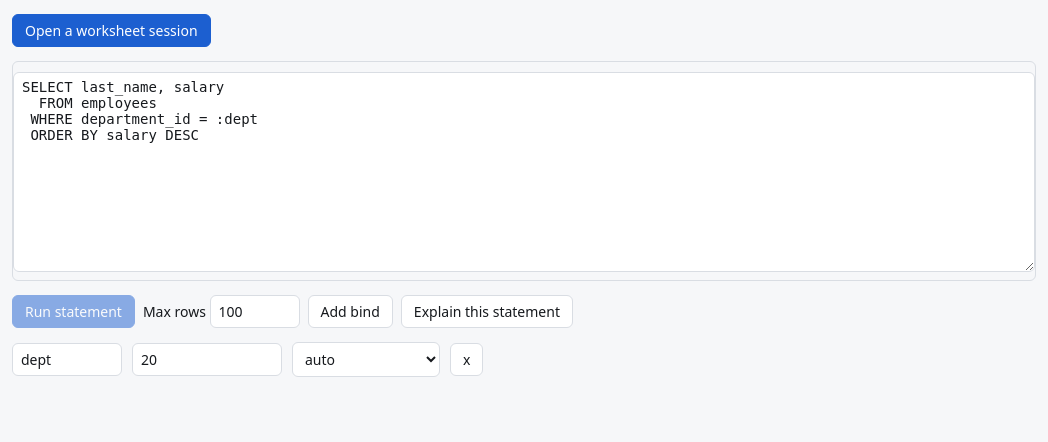
Scenario: acting on a session › refuses to execute on a session that belongs to another target
Click the button "Open a worksheet session" at (111, 30), box [12, 14, 211, 47]
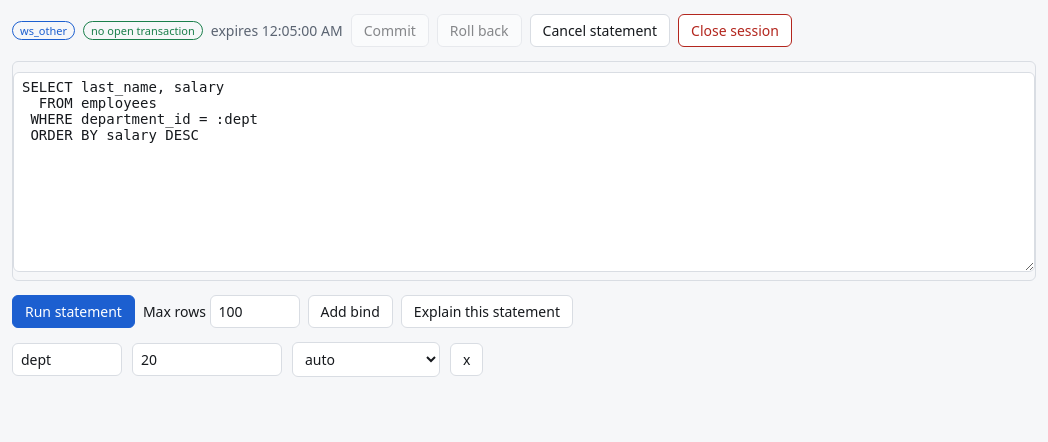
Result: the text "ws_other" is shown at [12, 21, 75, 40]
Click the button "Run statement" at (73, 312), box [12, 295, 135, 328]
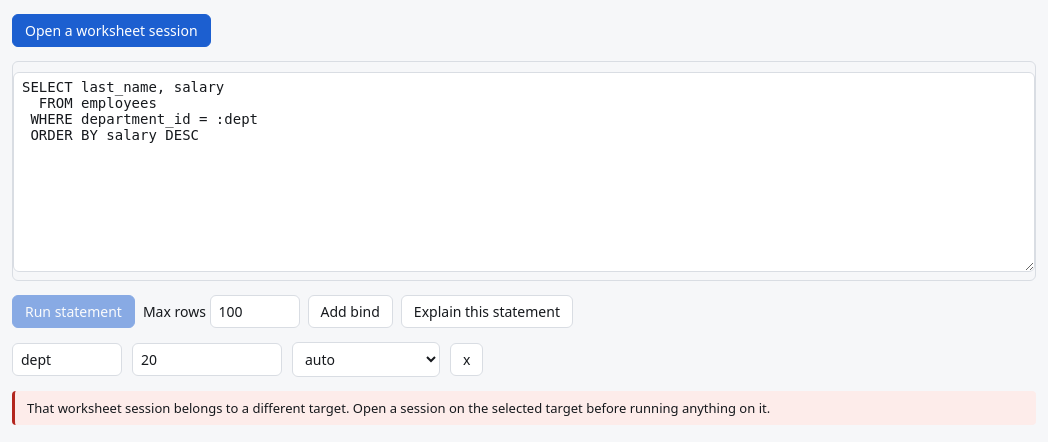
Result: the text "belongs to a different target" is shown at [27, 399, 770, 417]
